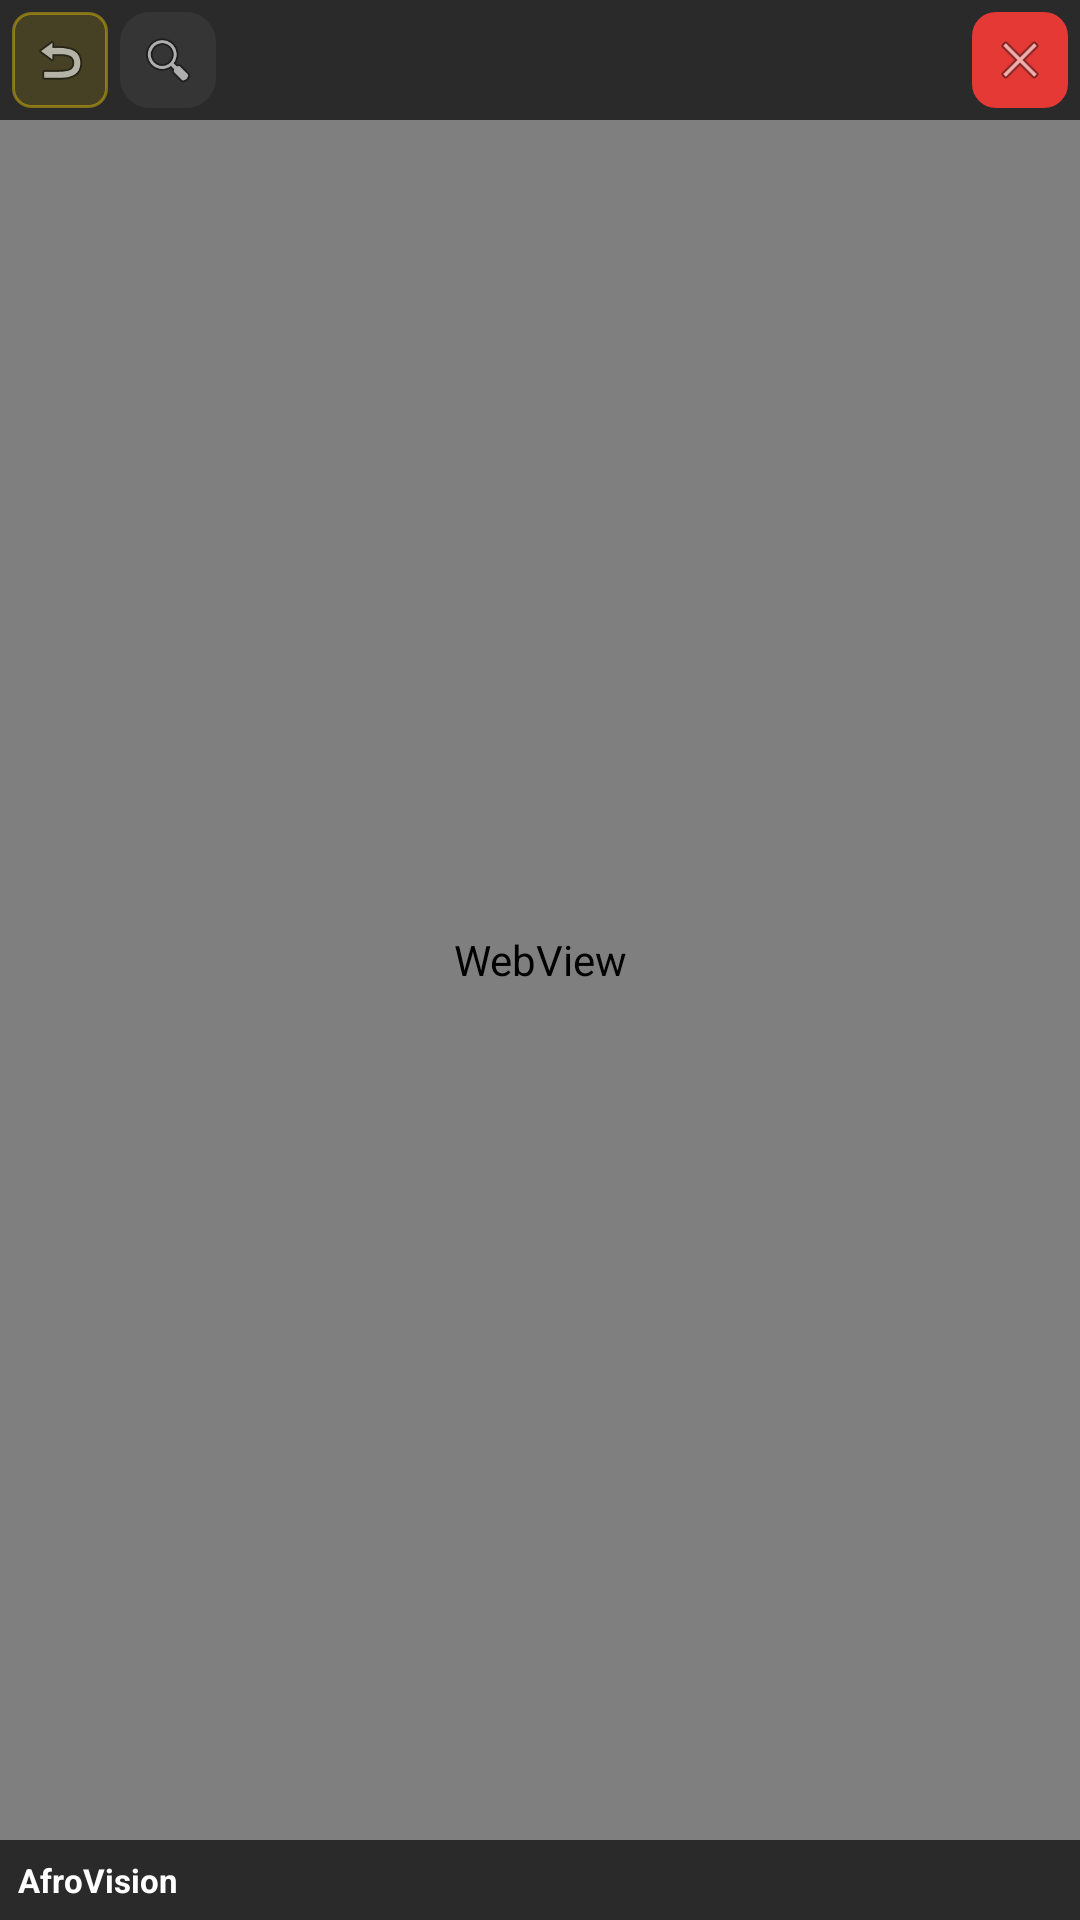

Icon bounding boxes for this 1080w x 1920h phone screenshot, format detection(x1, y1, x2, y2):
close clear cancel: detection(972, 12, 1068, 108)
revert: detection(12, 12, 108, 108)
search: detection(120, 12, 216, 108)
